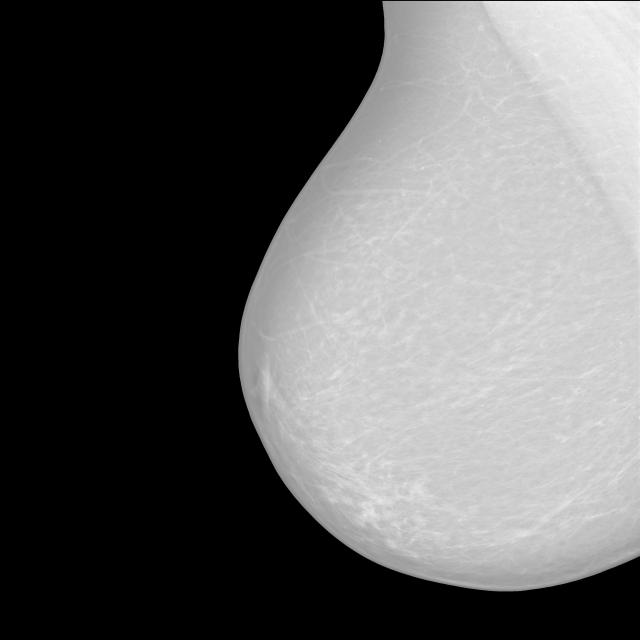Mass_1: (348, 499, 390, 529)
